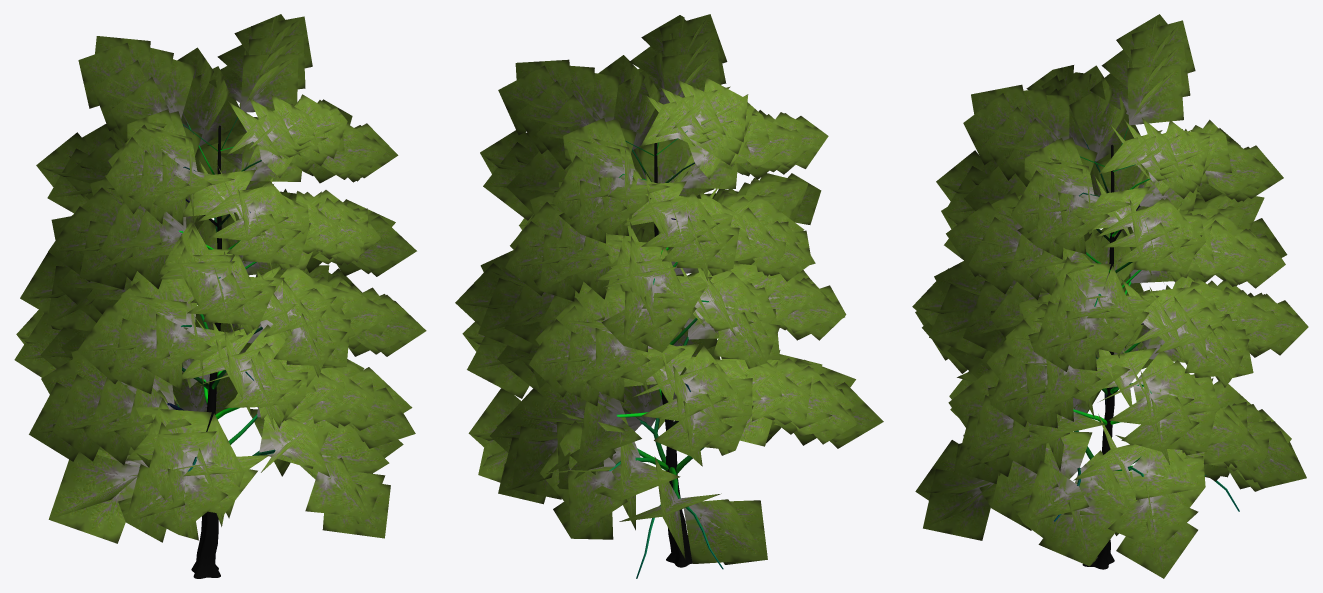
Rendered from BeechTree05.fbx.
3 renders of one model, left to right at view 1: azimuth 30°, elevation 25°; view 2: azimuth 150°, elevation 25°; view 3: azimuth 270°, elevation 25°, orthographic. The views are drawn at different scales.
Parts seen in each view (by area): view 1: Tree_1, Tree_0; view 2: Tree_1, Tree_0; view 3: Tree_1, Tree_0.
Part boxes in pixels (<box>): Tree_1: <box>14,14,426,543</box>; Tree_0: <box>139,117,275,578</box>; Tree_1: <box>455,14,883,564</box>; Tree_0: <box>609,130,723,578</box>; Tree_1: <box>912,14,1308,578</box>; Tree_0: <box>1054,127,1239,569</box>.
Bounding box in the file's own units: 92.6 × 125 × 88.17.
